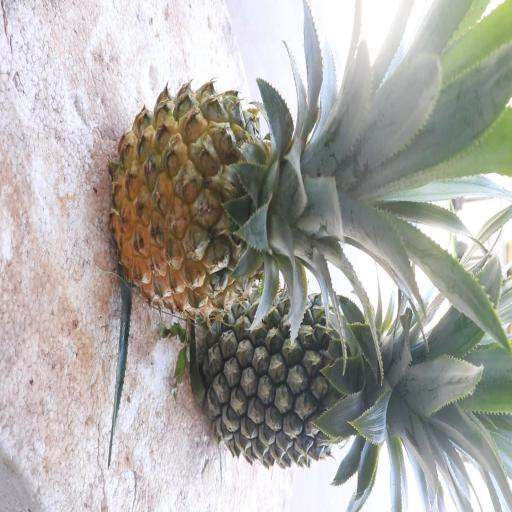Pineapple - v8 v1: (107, 77, 381, 323)
